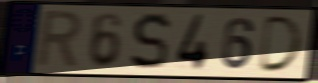4: (174, 12, 210, 73)
6: (88, 12, 124, 70), (221, 16, 255, 71)
D: (256, 14, 305, 74)
R: (33, 9, 85, 71)
S: (128, 11, 172, 72)
